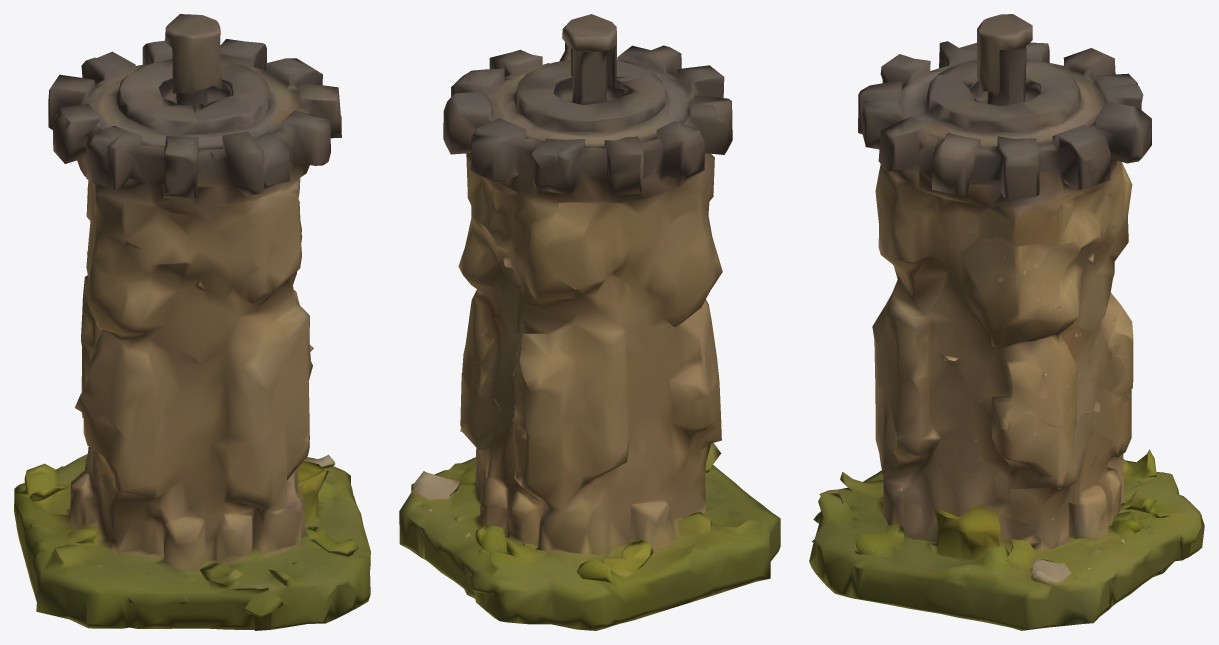
Rendered from pivot_pillar.glb.
3 renders of one model, left to right at view 1: azimuth 30°, elevation 25°; view 2: azimuth 150°, elevation 25°; view 3: azimuth 270°, elevation 25°, orthographic. The views are drawn at different scales.
Parts seen in each view (by area): view 1: tripo_node_6fd185e3-b128-4c3c-90c3-b25026a4c8e1; view 2: tripo_node_6fd185e3-b128-4c3c-90c3-b25026a4c8e1; view 3: tripo_node_6fd185e3-b128-4c3c-90c3-b25026a4c8e1.
Part boxes in pixels (x1,y1,x2,y2): tripo_node_6fd185e3-b128-4c3c-90c3-b25026a4c8e1: (14, 14, 370, 630); tripo_node_6fd185e3-b128-4c3c-90c3-b25026a4c8e1: (399, 14, 780, 630); tripo_node_6fd185e3-b128-4c3c-90c3-b25026a4c8e1: (809, 14, 1204, 630).
Size of the model in its own units: 0.6664 by 1 by 0.6803.
1 material, 1 textured.
